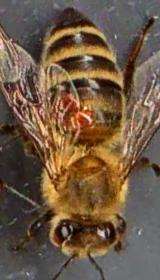varroa_mite: (68, 103, 103, 130)
